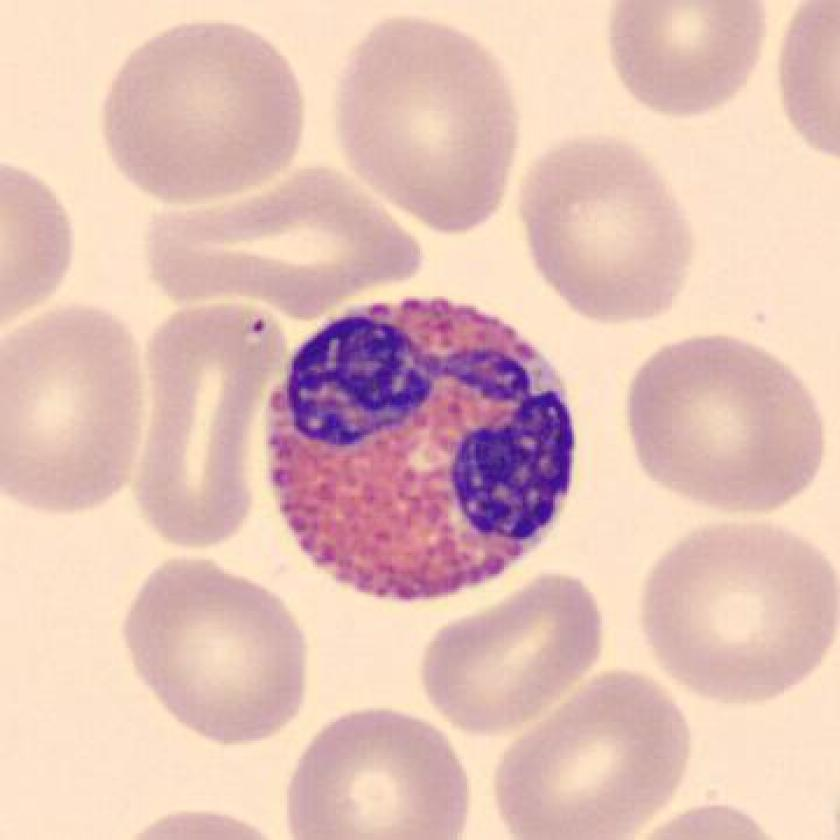eosinophil: (255, 288, 589, 612)
